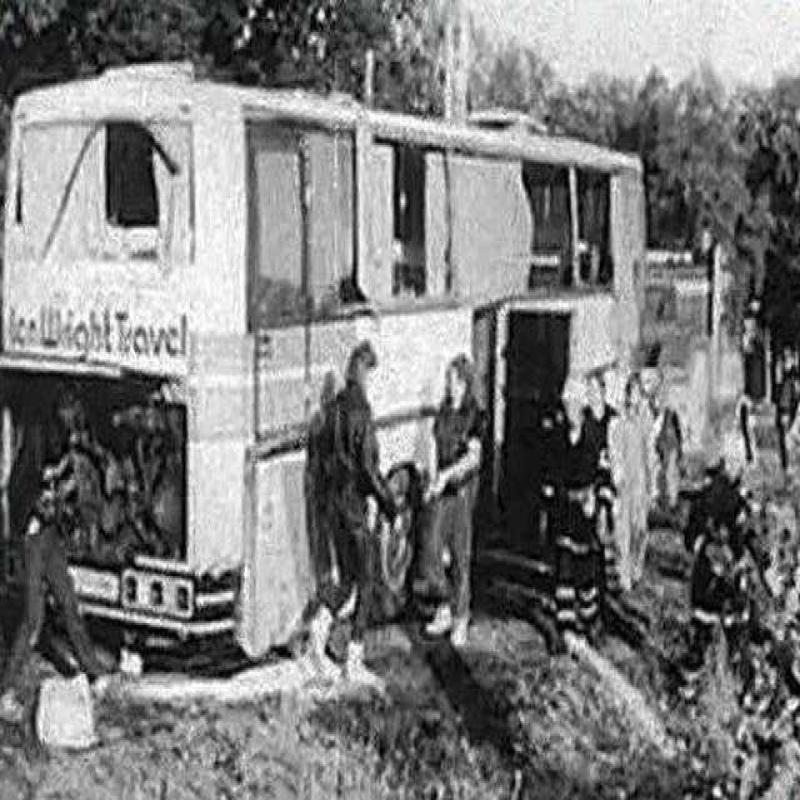bus: (25, 71, 638, 636)
